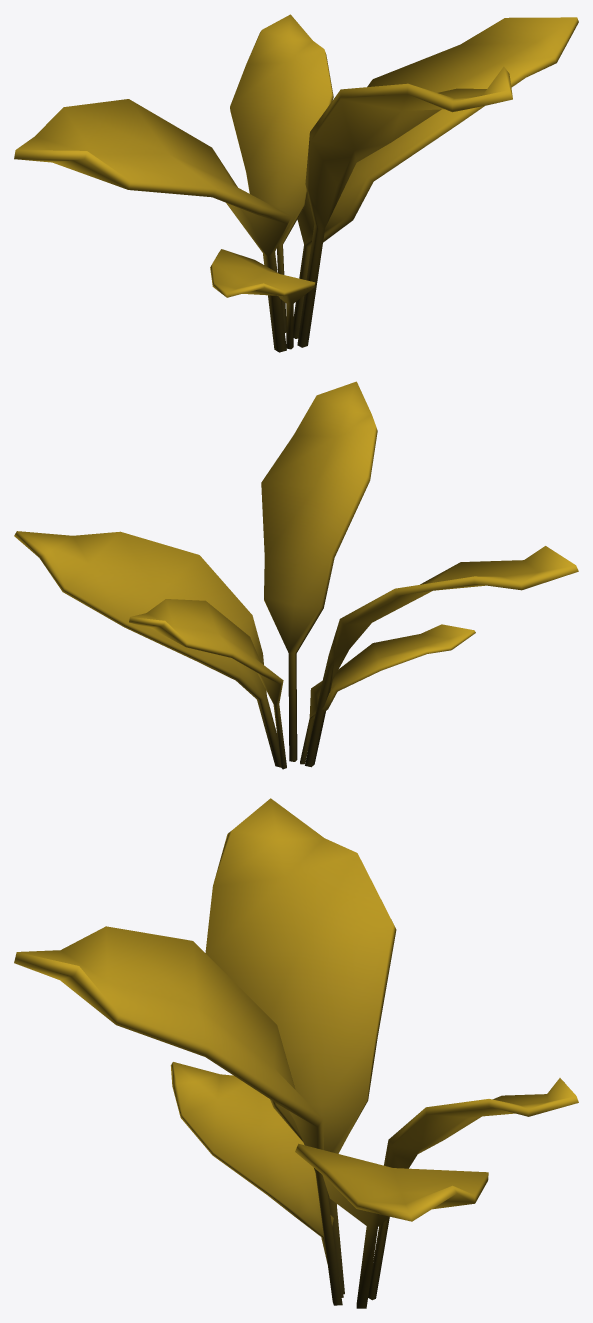
Rendered from Plant_D_2.fbx.
The picture shows the model from 3 angles, top to bottom: view 1: azimuth 30°, elevation 25°; view 2: azimuth 150°, elevation 25°; view 3: azimuth 270°, elevation 25°; orthographic projection. The views are drawn at different scales.
Parts seen in each view (by area): view 1: Plant_D_2; view 2: Plant_D_2; view 3: Plant_D_2.
Part boxes in pixels (x1,y1,x2,y2): Plant_D_2: [14, 14, 578, 352]; Plant_D_2: [14, 381, 578, 769]; Plant_D_2: [14, 798, 578, 1308].
Size of the model in its own units: 88.43 by 46.27 by 61.17.
